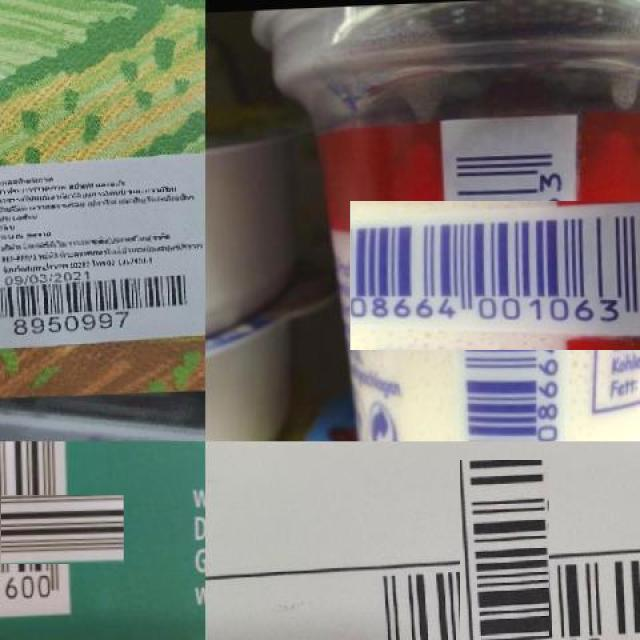Barcode: (396, 155, 636, 396), (415, 505, 595, 640), (0, 266, 202, 329), (0, 467, 97, 591)
